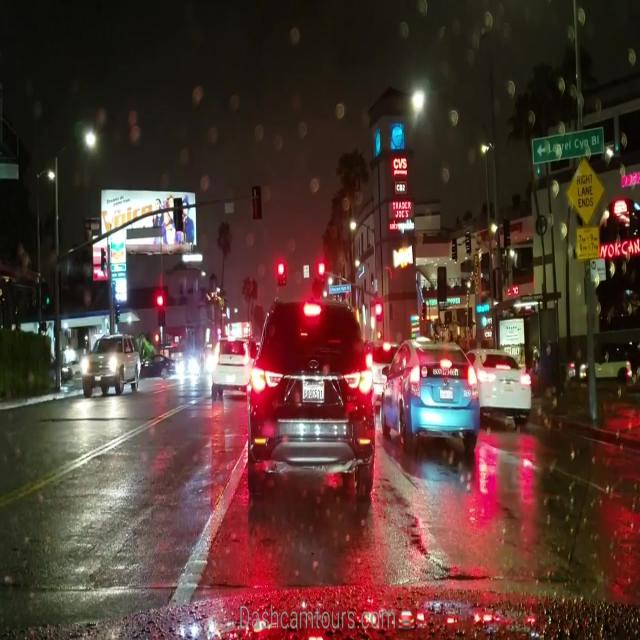Car: (244, 307, 371, 497), (383, 336, 476, 443), (82, 336, 139, 395), (211, 333, 249, 388)
